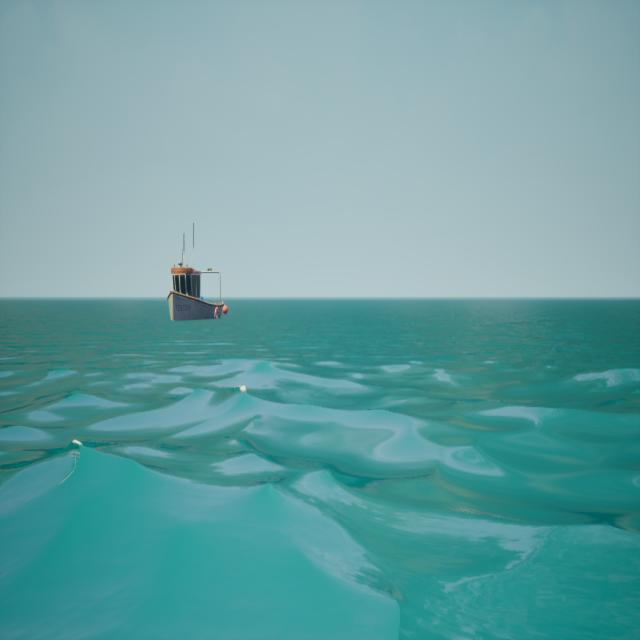ship: (166, 220, 231, 328)
